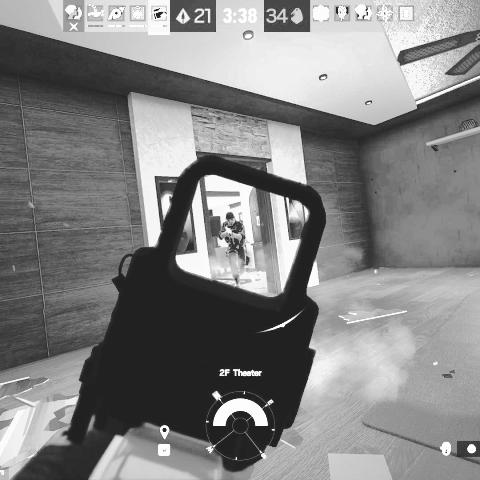Character: (217, 210, 251, 289)
Head: (224, 210, 236, 226)
